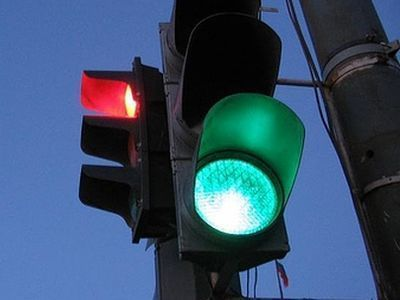trafficlight_green: (173, 1, 299, 240)
trafficlight_red: (81, 60, 146, 241)
